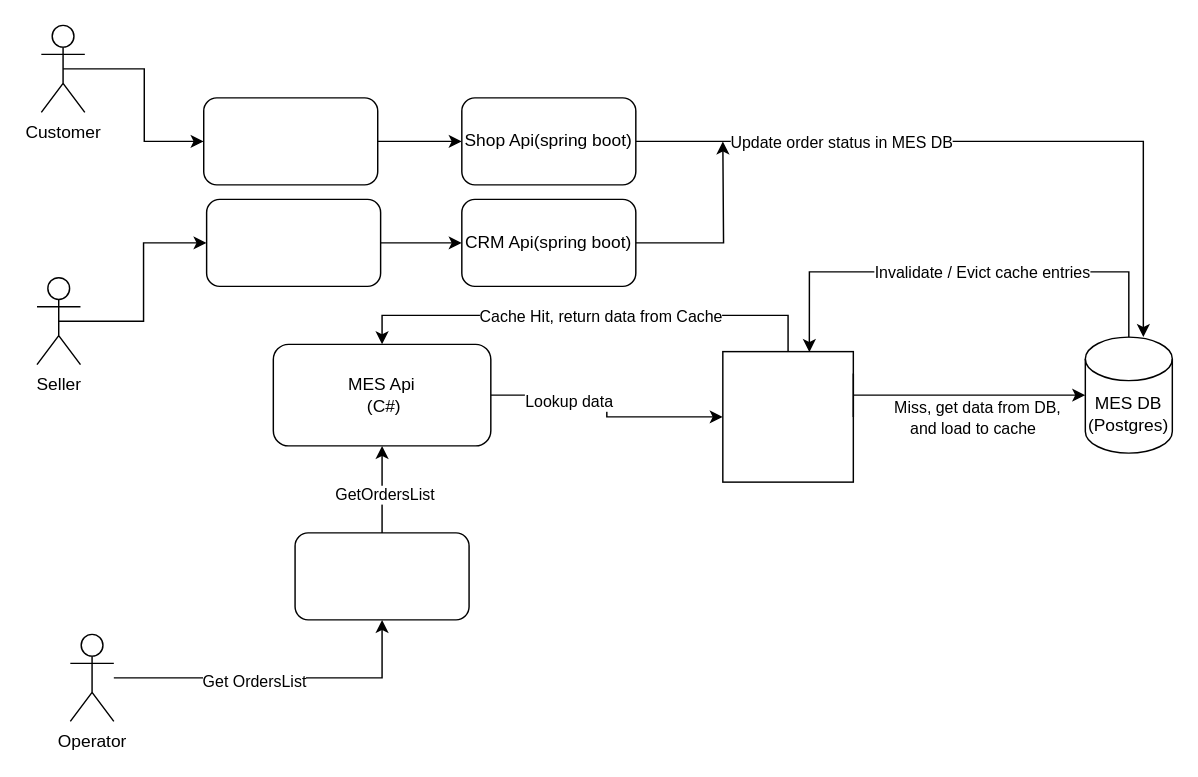
Some shapes in this 1198 by 777 pixel diagram are drawn without their labels. Here are the shapes that lost their labels. From the top down, the centre of each, then its label:
the point at 290,140: Internet Shop(Vue)
the point at 293,242: CRM (Vue)
the point at 787,416: MES API Cache
the point at 381,575: MES (React, Typescript)
